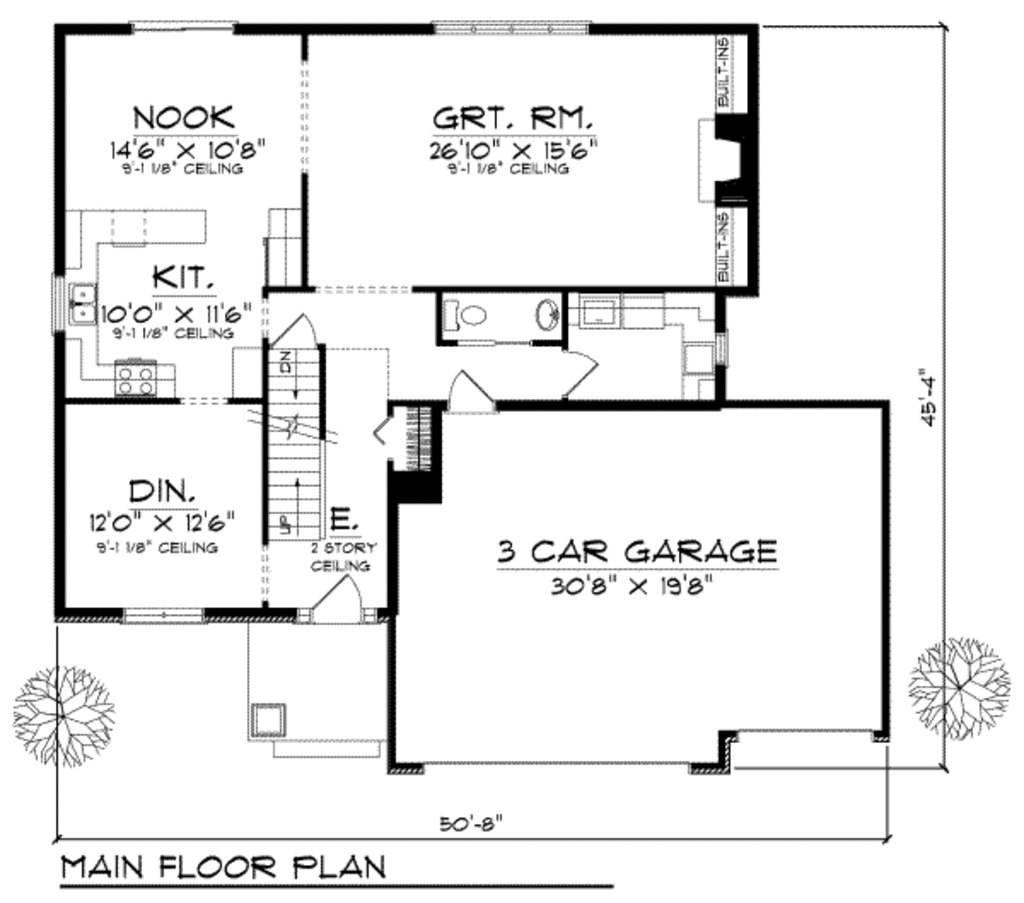door: (305, 571, 381, 630), (432, 368, 499, 422), (566, 347, 602, 403), (270, 309, 319, 347)
large_sink: (435, 291, 490, 334)
small_sink: (512, 289, 567, 340)
stairs: (253, 347, 346, 541)
twin_sink: (63, 280, 109, 339)
window: (95, 598, 216, 629), (437, 18, 597, 40), (120, 18, 242, 40)
